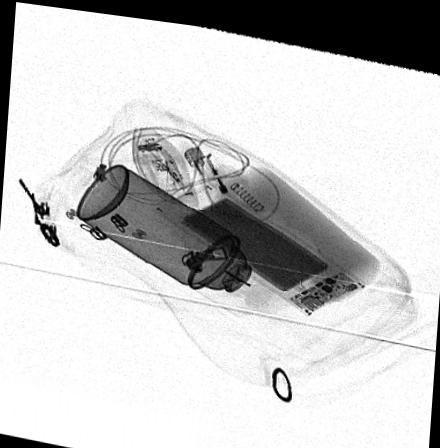Lighter: (182, 137, 243, 208)
Powerbank: (151, 173, 370, 307)
Sprayer: (76, 158, 283, 311)
